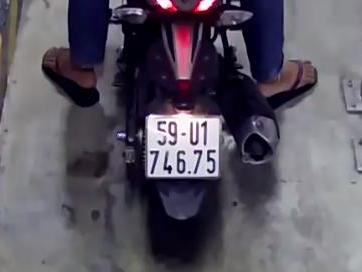num_plate: (145, 113, 223, 178)
